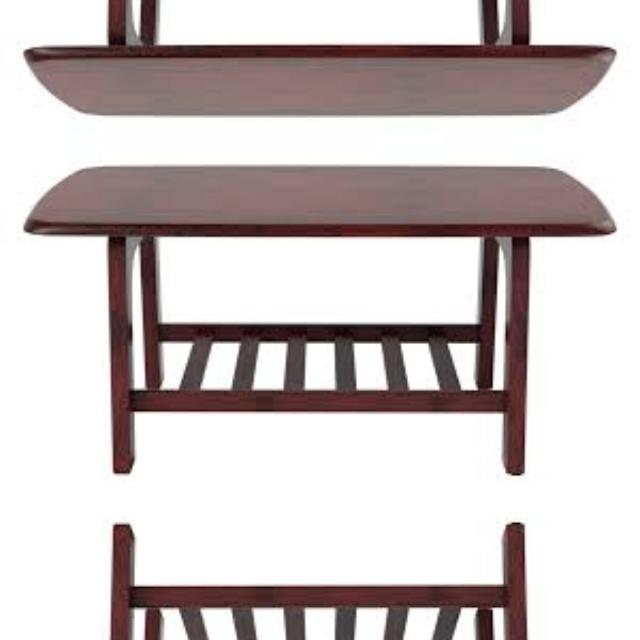obstacle: (14, 148, 620, 498), (14, 499, 620, 640), (14, 0, 620, 132)
